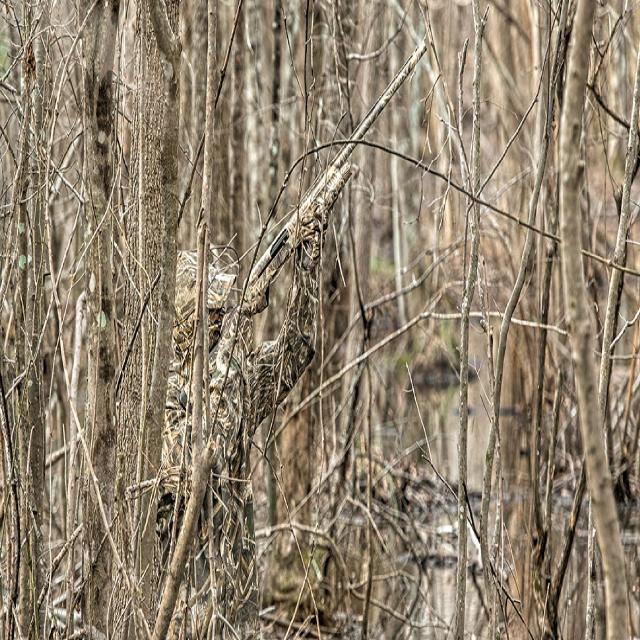Camouflage: (163, 43, 428, 622)
